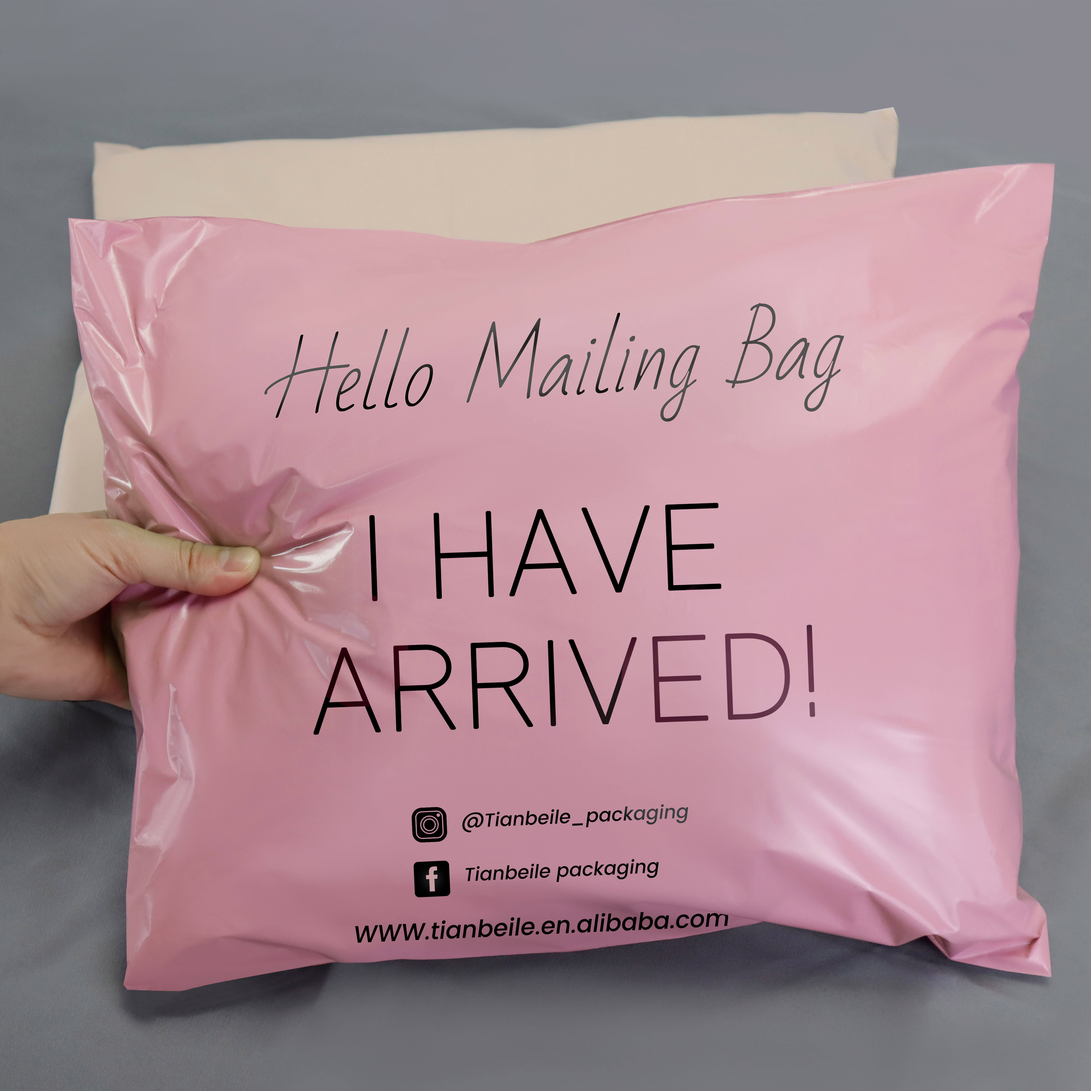塑料袋: (61, 115, 1052, 989)
